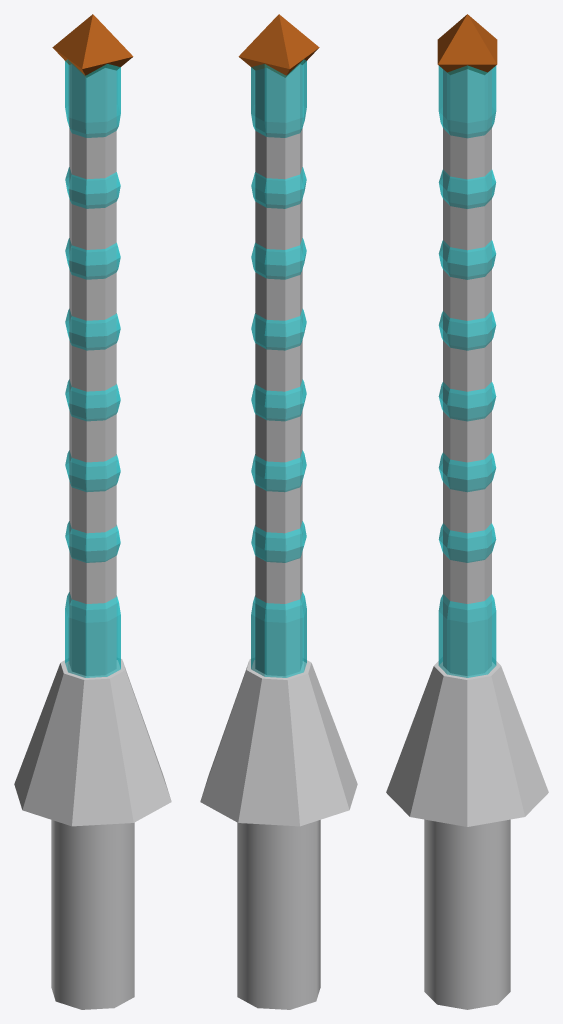
File: Object_electrolance.FBX
3 views of the same model, side by side, from view 1: azimuth 30°, elevation 25°; view 2: azimuth 150°, elevation 25°; view 3: azimuth 270°, elevation 25° (orthographic).
Visible parts, largest first — view 1: Object001, Hose001, Hedra001; view 2: Object001, Hose001, Hedra001; view 3: Object001, Hose001, Hedra001.
Boxes of the visible parts, box(x1,y1,x2,y2) form: Object001: box(14, 64, 171, 1009); Hose001: box(65, 59, 120, 677); Hedra001: box(52, 14, 133, 77); Object001: box(200, 64, 357, 1009); Hose001: box(251, 59, 306, 677); Hedra001: box(238, 14, 319, 77); Object001: box(386, 69, 548, 1009); Hose001: box(438, 65, 496, 677); Hedra001: box(437, 14, 497, 74).
Bounding box in the file's own units: 85.4 × 565 × 85.4.
